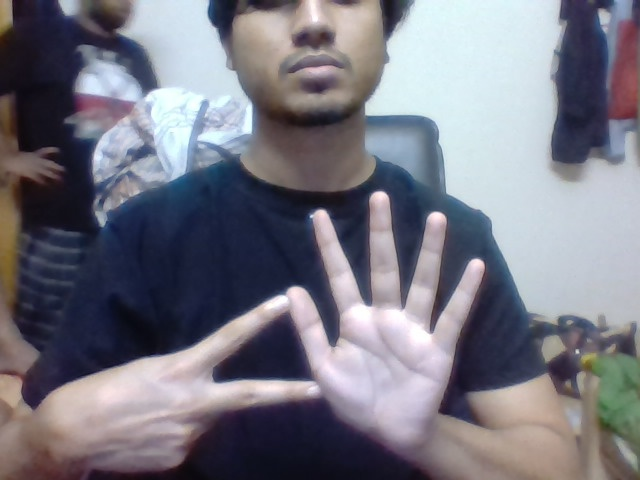N: (199, 288, 289, 415)
